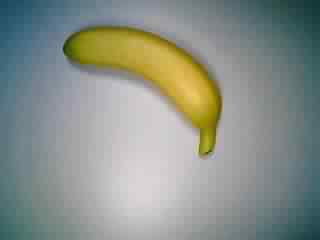banana: (59, 21, 229, 165)
